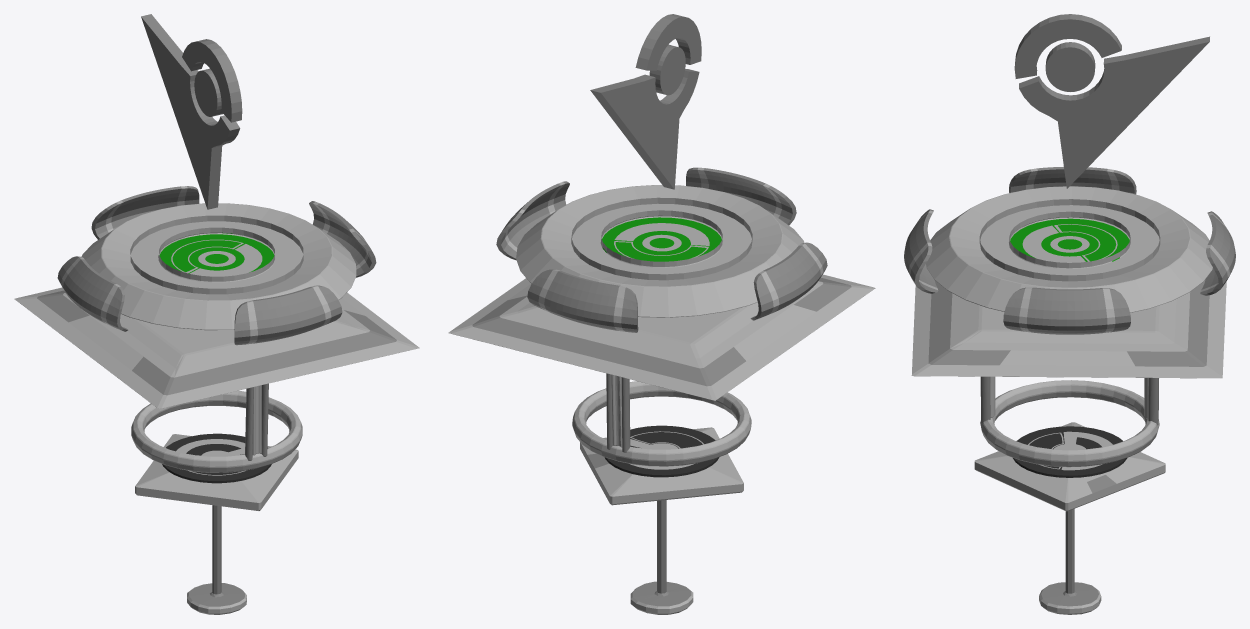
Rendered from graygym.obj.
3 renders of one model, left to right at view 1: azimuth 30°, elevation 25°; view 2: azimuth 150°, elevation 25°; view 3: azimuth 270°, elevation 25°, orthographic. The views are drawn at different scales.
Visible parts, largest first — view 1: graygym; view 2: graygym; view 3: graygym.
Boxes of the visible parts, <box> form: graygym: <box>14,14,419,614</box>; graygym: <box>448,14,875,614</box>; graygym: <box>904,14,1235,614</box>.
Size of the model in its own units: 0.5141 by 1 by 0.5141.
